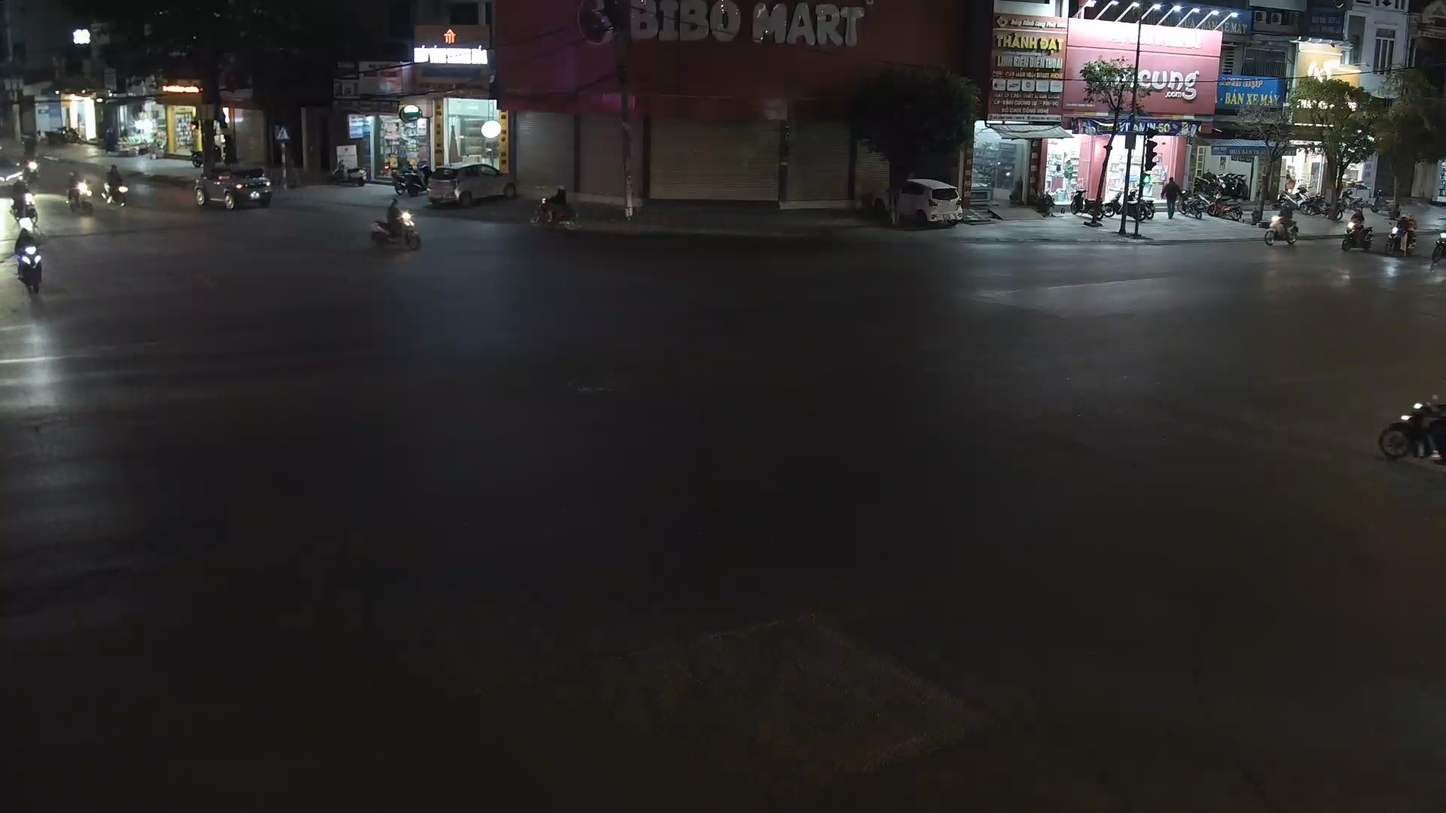motorbike: (1375, 357, 1445, 475), (367, 184, 424, 254), (8, 209, 49, 298)
